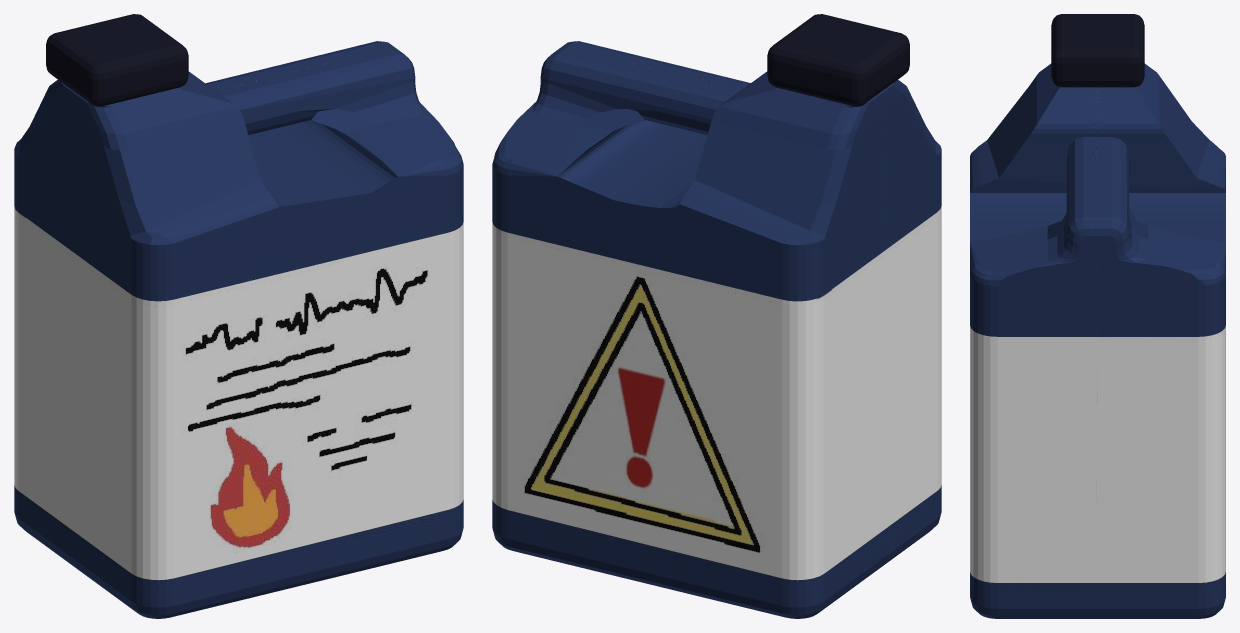
The model's file is IndustrialBottle.fbx.
3 renders of one model, left to right at view 1: azimuth 30°, elevation 25°; view 2: azimuth 150°, elevation 25°; view 3: azimuth 270°, elevation 25°, orthographic. The views are drawn at different scales.
Parts seen in each view (by area): view 1: Cube; view 2: Cube; view 3: Cube.
Boxes of the visible parts, box(x1,y1,x2,y2) form: Cube: box(14, 14, 463, 618); Cube: box(492, 14, 941, 618); Cube: box(970, 14, 1225, 618).
Bounding box in the file's own units: 204 × 307 × 152.
1 material, 1 textured.
